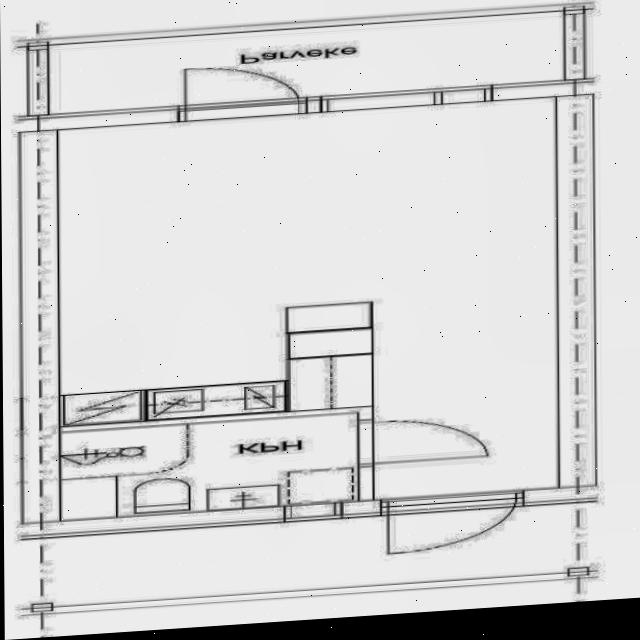room: (58, 413, 360, 519)
